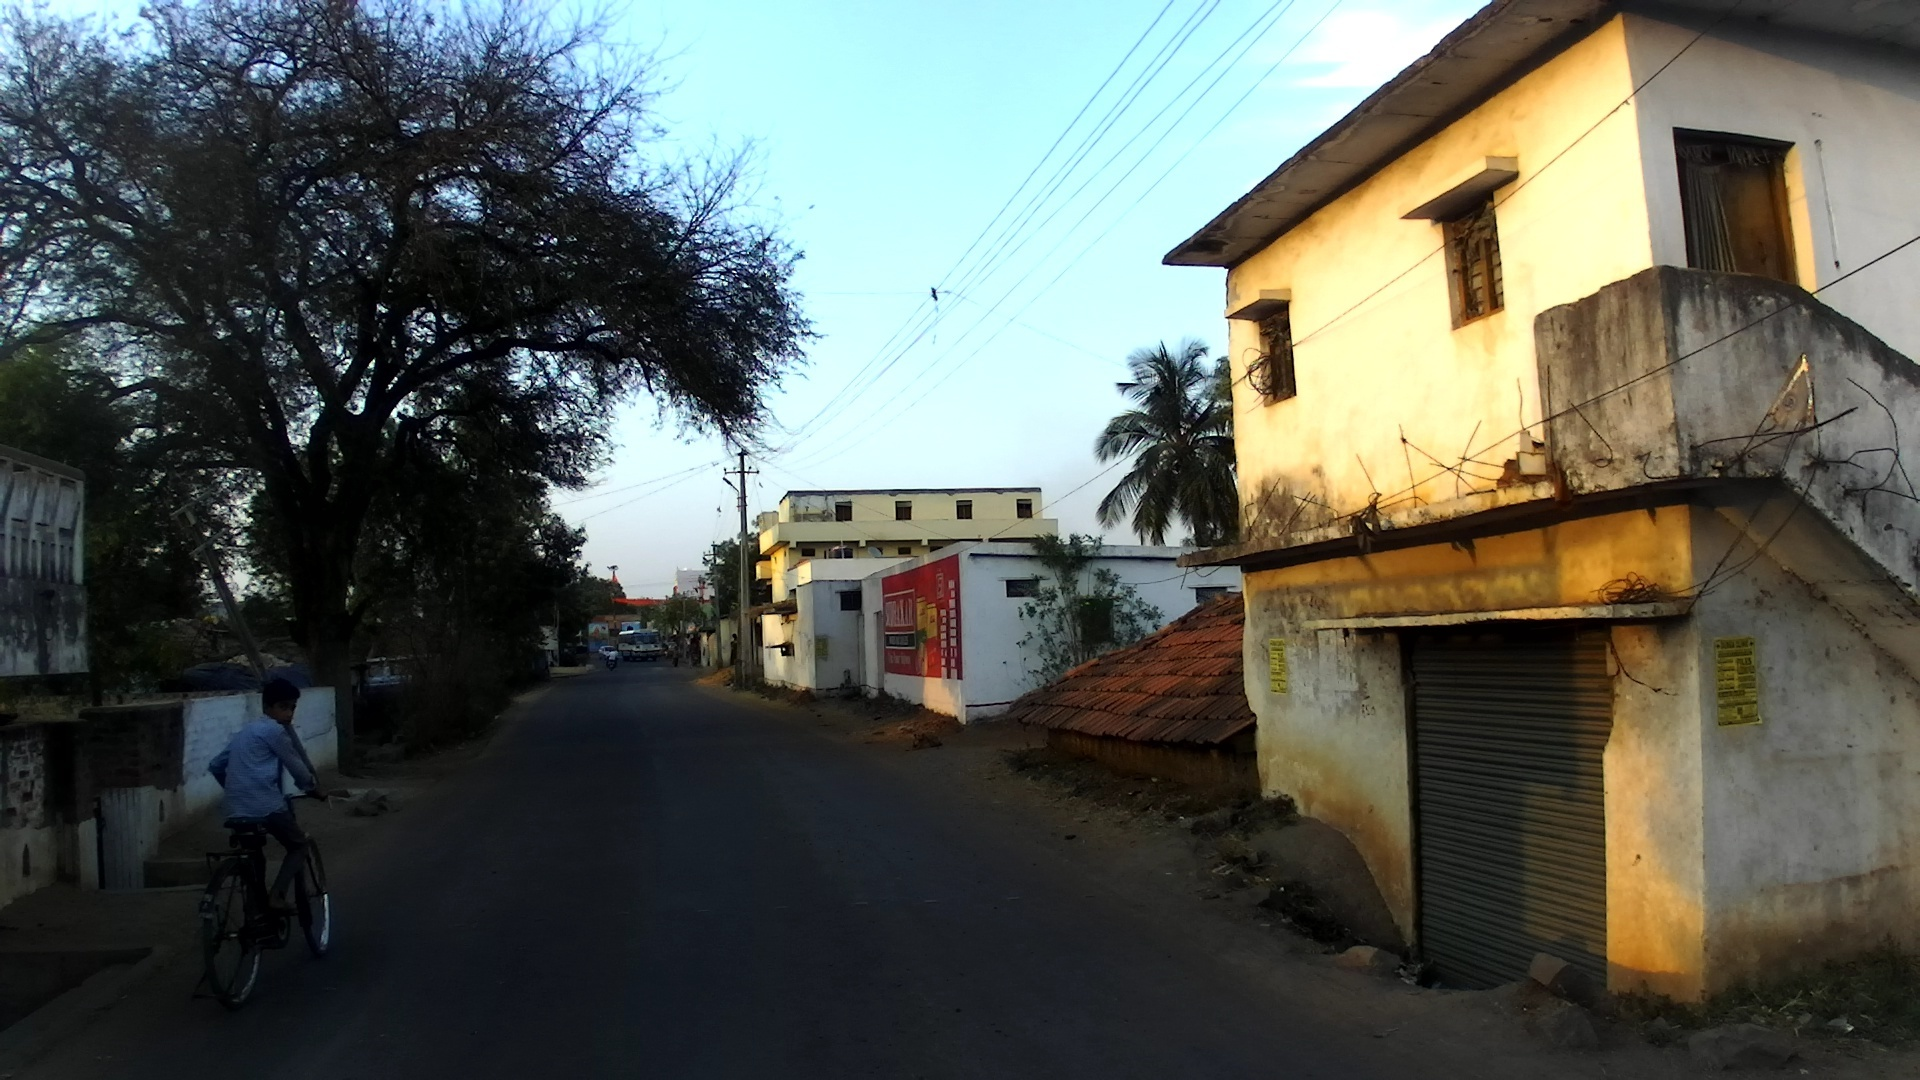bicycle: (182, 767, 332, 1024)
bus: (616, 627, 665, 665)
car: (598, 645, 619, 663)
motorcycle: (603, 656, 617, 674)
person: (669, 644, 682, 671)
rider: (211, 671, 331, 960), (603, 645, 619, 668)
